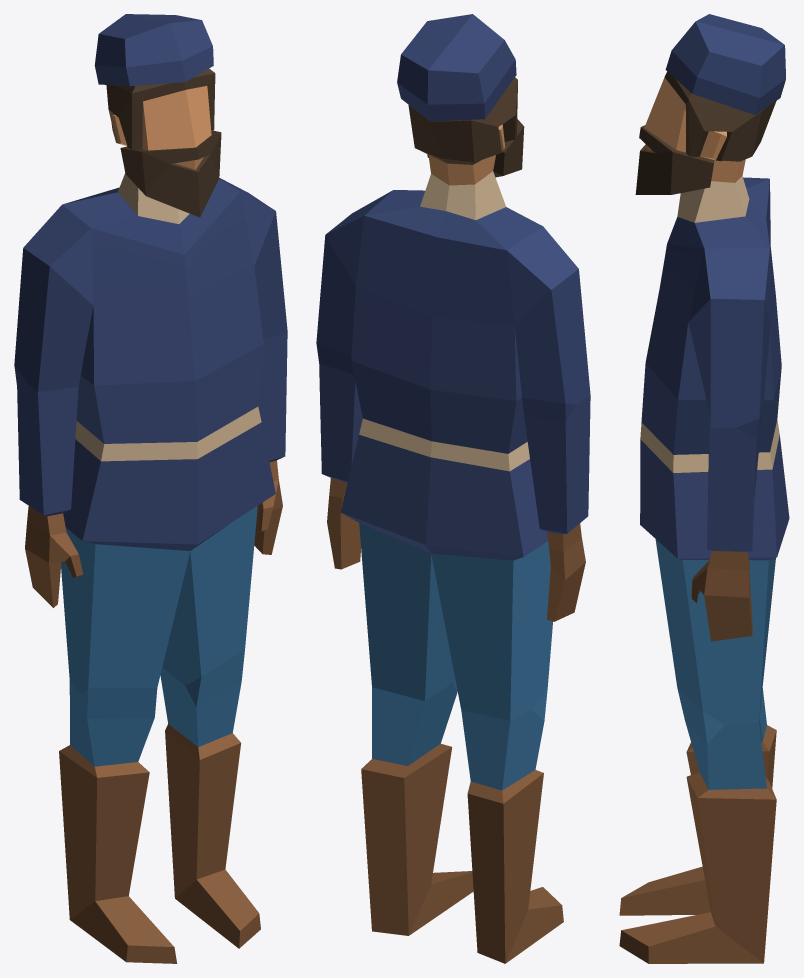
Rendered from people_man-lord.fbx.
3 renders of one model, left to right at view 1: azimuth 30°, elevation 25°; view 2: azimuth 150°, elevation 25°; view 3: azimuth 270°, elevation 25°, orthographic.
Visible parts, largest first — view 1: people_man_lord; view 2: people_man_lord; view 3: people_man_lord.
Part boxes in pixels (x1,y1,x2,y2): people_man_lord: (14,14,287,963); people_man_lord: (316,14,590,963); people_man_lord: (619,14,789,963).
Bounding box in the file's own units: 57.69 × 200 × 33.88.
